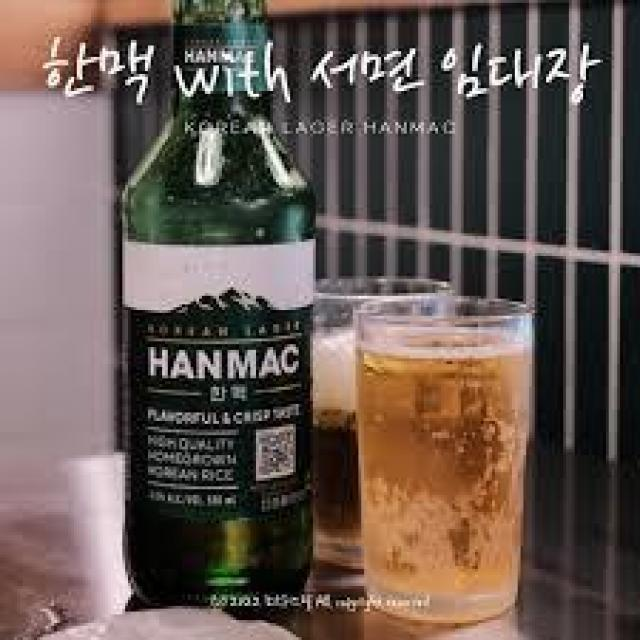beer-bottle: (112, 0, 332, 620)
